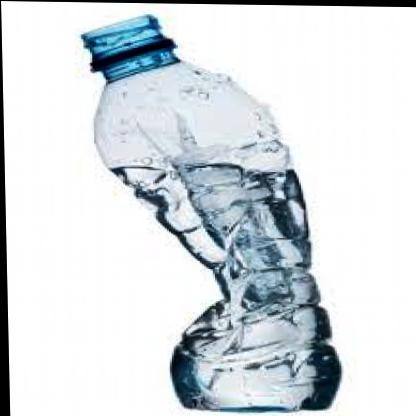trash: (82, 15, 340, 410)
